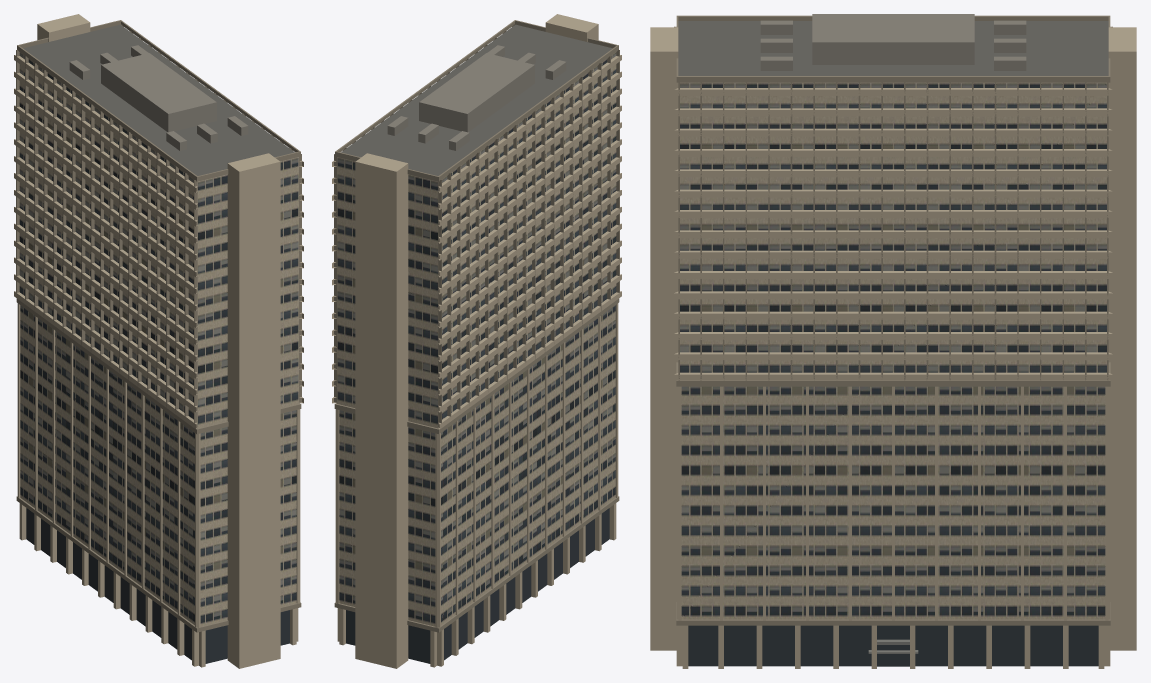
Rendered from fox_plaza.glb.
3 renders of one model, left to right at view 1: azimuth 30°, elevation 25°; view 2: azimuth 150°, elevation 25°; view 3: azimuth 270°, elevation 25°, orthographic. The views are drawn at different scales.
Visible parts, largest first — view 1: fox_plaza; view 2: fox_plaza; view 3: fox_plaza.
Part boxes in pixels (x1=…): fox_plaza: x1=14, y1=14, x2=303, y2=668; fox_plaza: x1=332, y1=14, x2=621, y2=668; fox_plaza: x1=650, y1=14, x2=1136, y2=668.
Size of the model in its own units: 23.99 by 108 by 78.
Materials: 2 (2 with a texture image).
